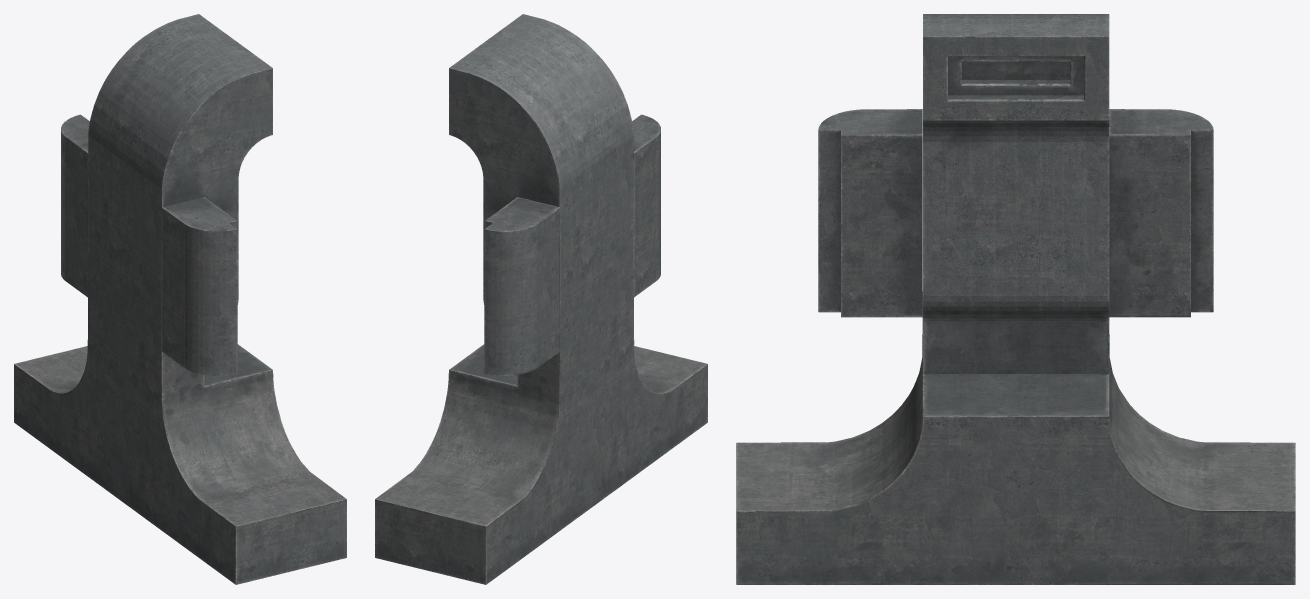
The model's file is Skulptur.glb.
The picture shows the model from 3 angles, left to right: view 1: azimuth 30°, elevation 25°; view 2: azimuth 150°, elevation 25°; view 3: azimuth 270°, elevation 25°; orthographic projection. The views are drawn at different scales.
Visible parts, largest first — view 1: polySurface190, polySurface191, polySurface188, polySurface189; view 2: polySurface190, polySurface191, polySurface189, polySurface188; view 3: polySurface190, polySurface191, polySurface188, polySurface189.
Boxes of the visible parts, box(x1,y1,x2,y2) form: polySurface190: box(14, 298, 346, 584); polySurface191: box(88, 14, 272, 351); polySurface188: box(162, 197, 237, 375); polySurface189: box(61, 114, 89, 297); polySurface190: box(375, 298, 707, 584); polySurface191: box(449, 14, 633, 351); polySurface189: box(484, 197, 559, 375); polySurface188: box(632, 114, 660, 297); polySurface190: box(736, 291, 1295, 584); polySurface191: box(923, 14, 1109, 321); polySurface188: box(818, 109, 922, 317); polySurface189: box(1109, 109, 1213, 317).
Size of the model in its own units: 1.39 by 5.2 by 4.8.
Materials: 3 (3 with a texture image).
